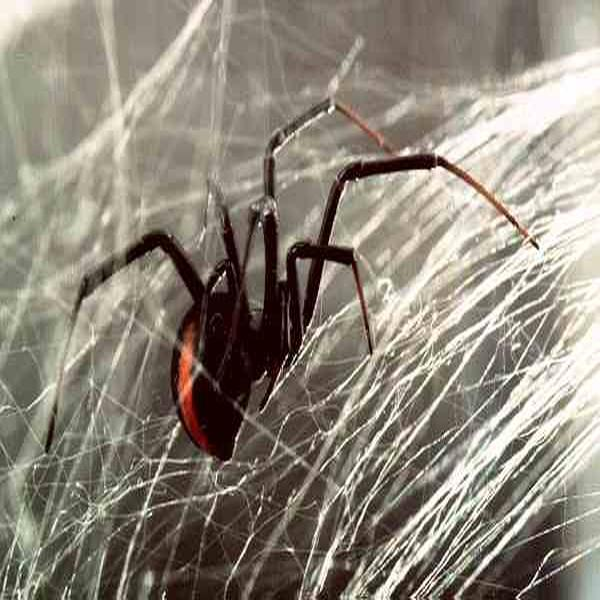Redback Spider: (57, 96, 538, 462)
